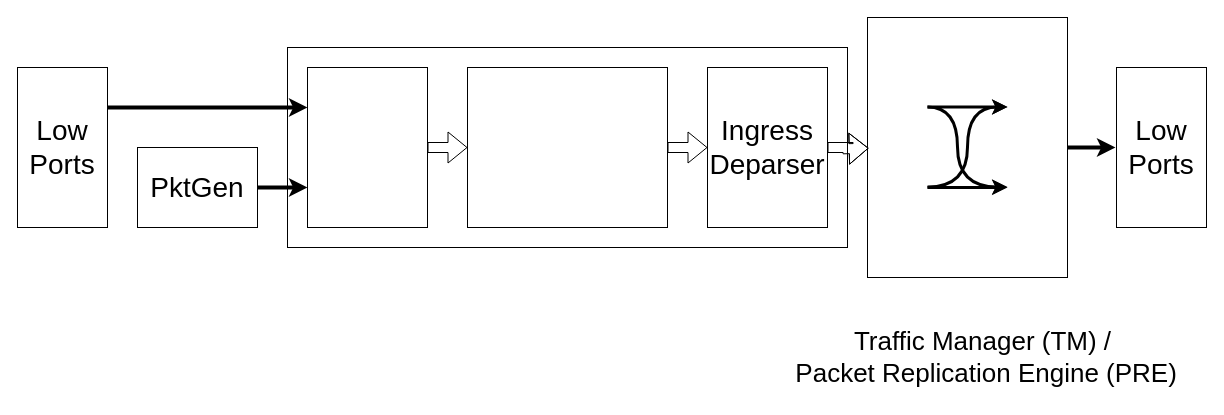
The diagram is 1224 pixels wide and 415 high, and some of its shapes have lost their labels. Here are the shapes that lost their labels. From the top down, the box of each, then its label:
(306, 66, 428, 228): Ingress Parser
(466, 66, 668, 228): Ingress Process
